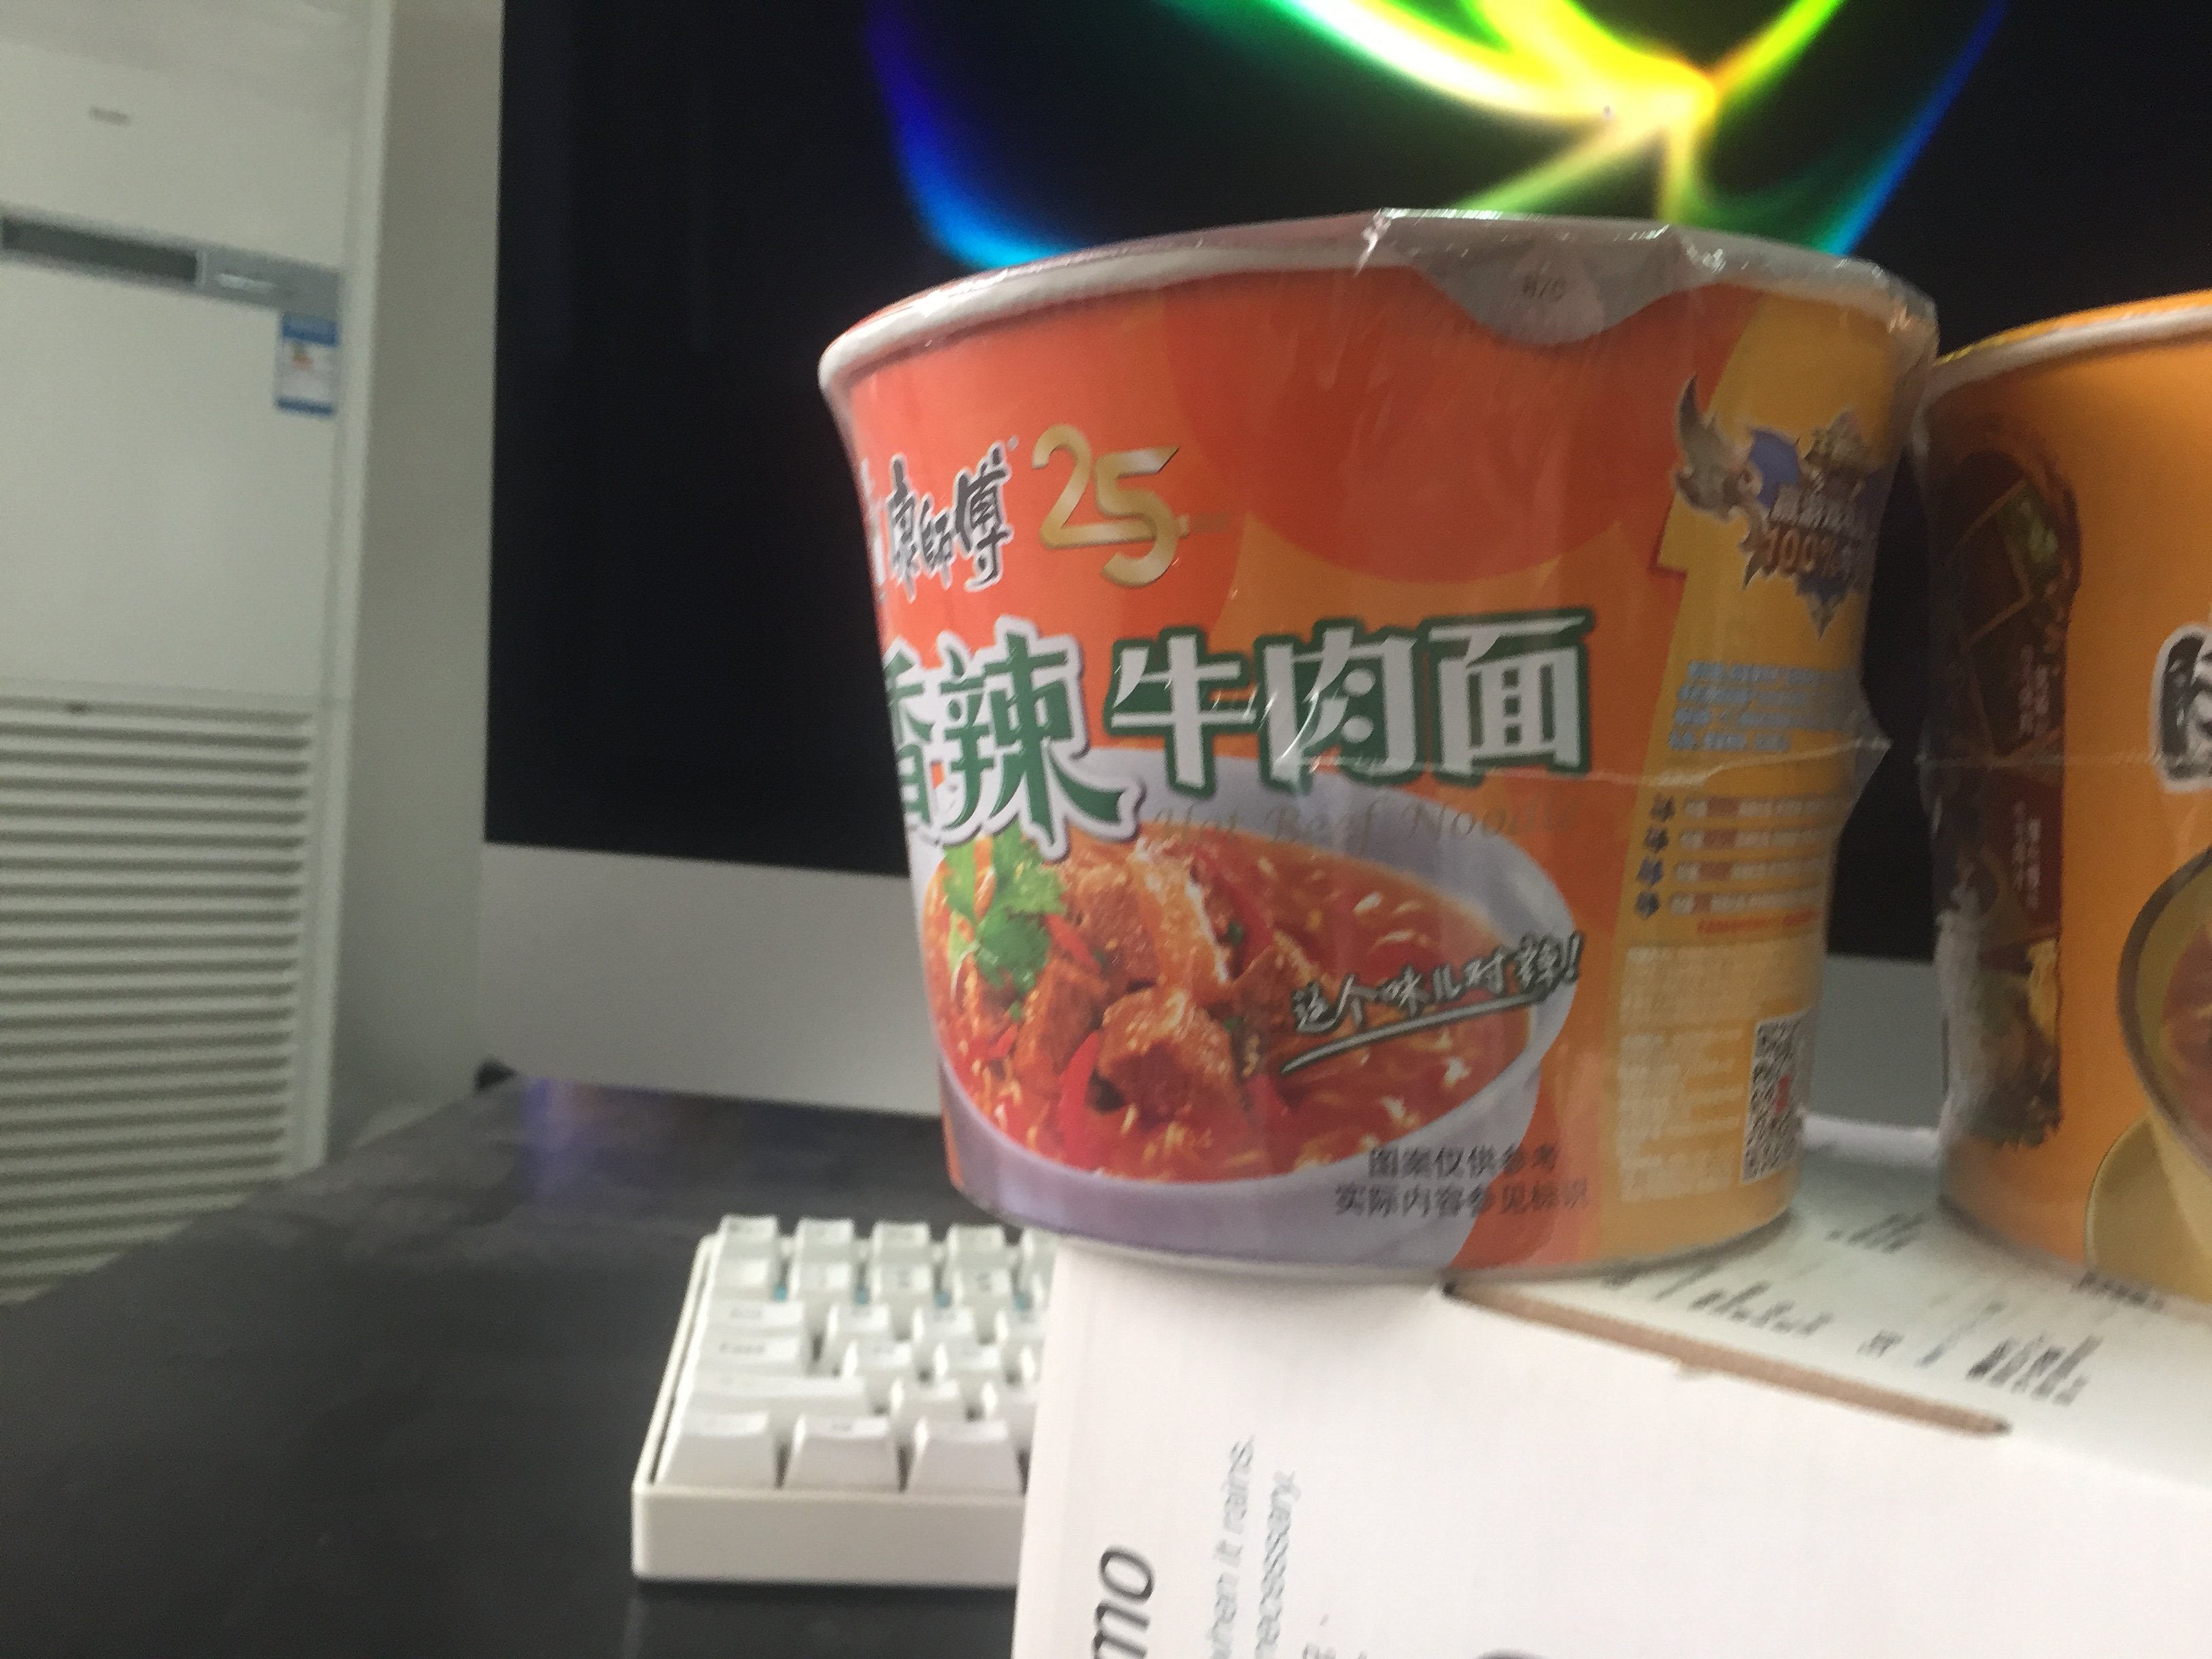xiangla: (819, 213, 1942, 1290)
